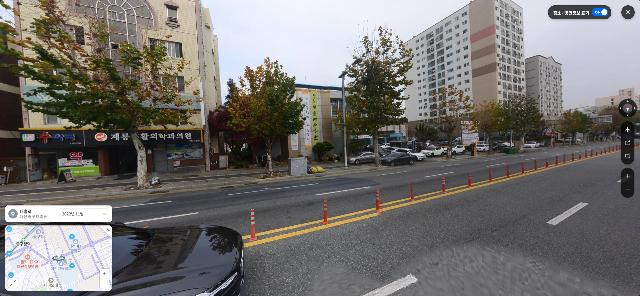other: (0, 1, 204, 191), (342, 20, 416, 168), (227, 57, 309, 179), (427, 85, 474, 158), (501, 91, 542, 153), (470, 98, 509, 154)
